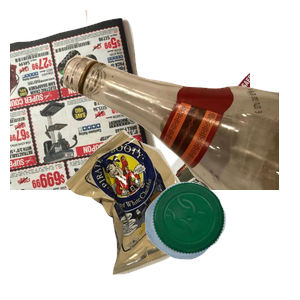glass: (60, 10, 300, 190)
paper: (10, 15, 250, 195)
plastic: (142, 179, 300, 300)
trash: (61, 127, 260, 300)
